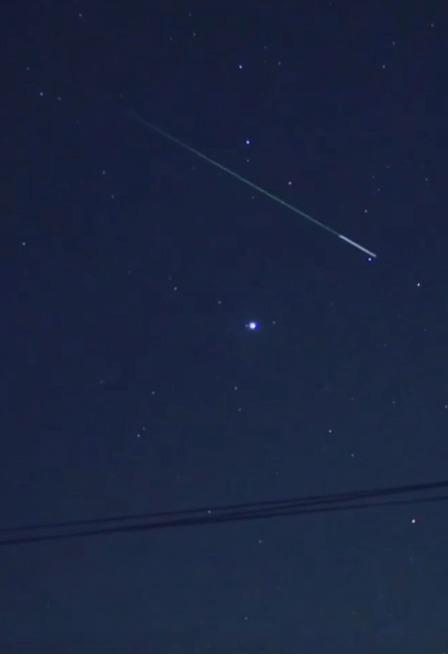meteorite: (195, 160, 389, 274)
